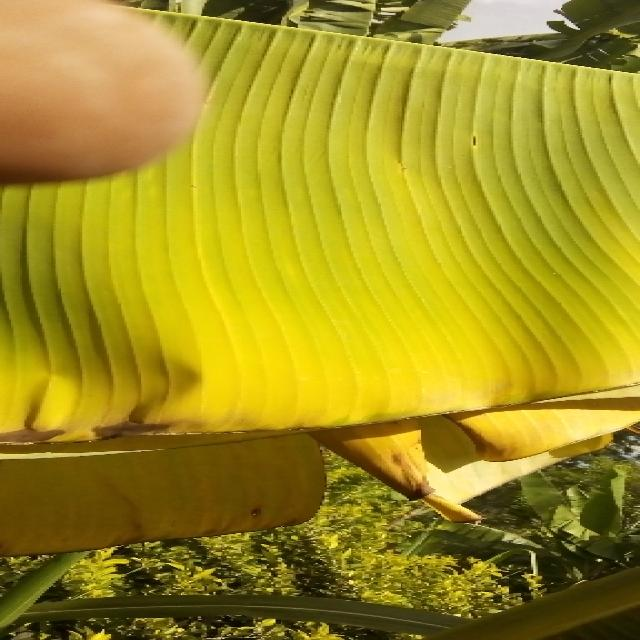Cordana: (0, 0, 640, 448), (5, 433, 640, 584), (291, 381, 640, 476)
